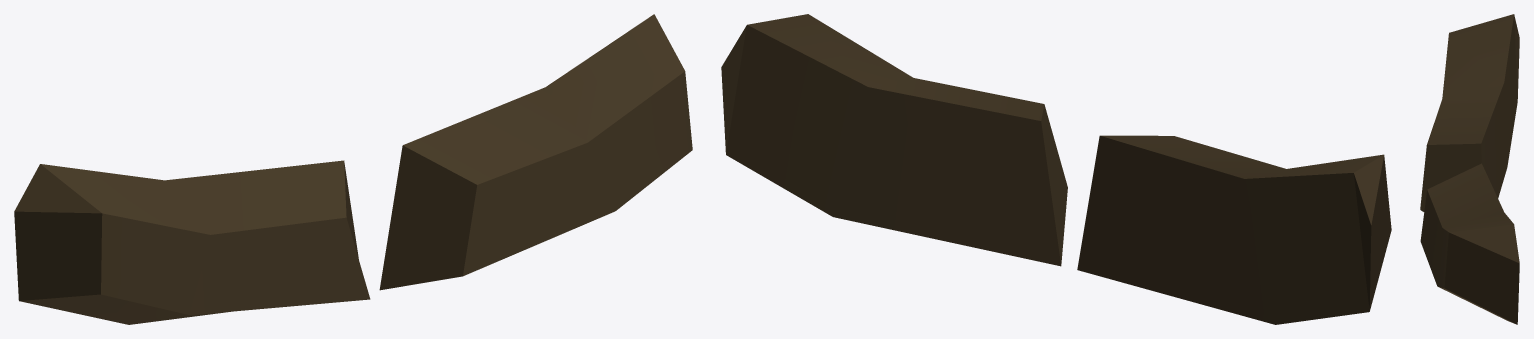
File: Chr_Eyebrow_Male_04_Static.fbx
3 renders of one model, left to right at view 1: azimuth 30°, elevation 25°; view 2: azimuth 150°, elevation 25°; view 3: azimuth 270°, elevation 25°, orthographic. The views are drawn at different scales.
Visible parts, largest first — view 1: Chr_Eyebrow_Male_04_Static; view 2: Chr_Eyebrow_Male_04_Static; view 3: Chr_Eyebrow_Male_04_Static.
Boxes of the visible parts, <box> form: Chr_Eyebrow_Male_04_Static: <box>14,14,692,324</box>; Chr_Eyebrow_Male_04_Static: <box>721,14,1391,324</box>; Chr_Eyebrow_Male_04_Static: <box>1420,14,1519,324</box>.
Bounding box in the file's own units: 0.173 × 0.0473 × 0.0324.
